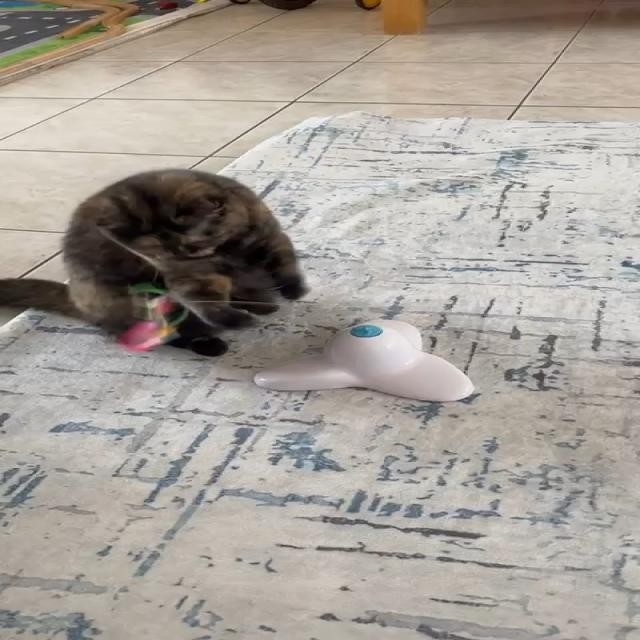authorized: (0, 166, 309, 355)
